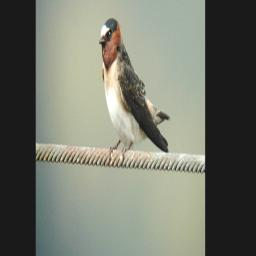Swallow: (96, 11, 171, 163)
